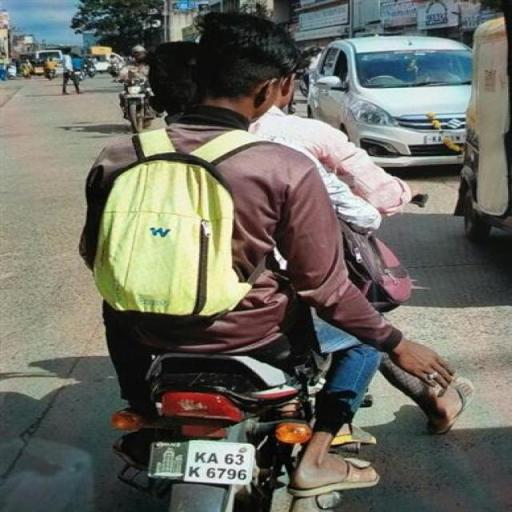tripple riding: (68, 10, 430, 374)
